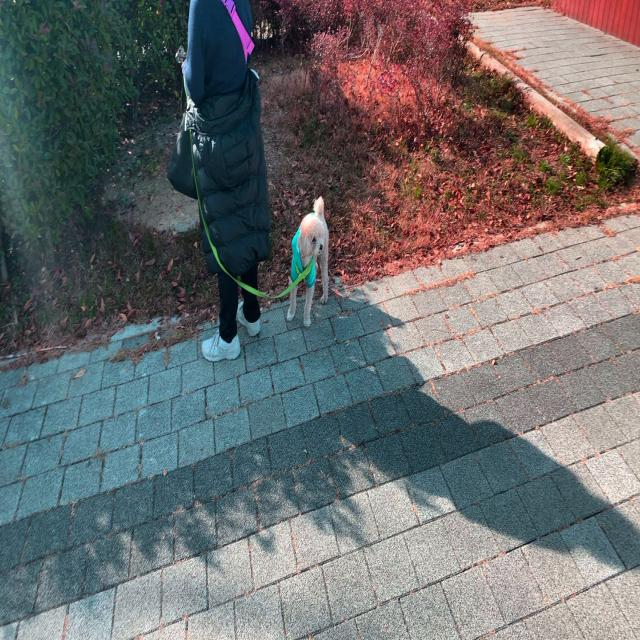Leashed_Dog: (242, 192, 330, 362)
